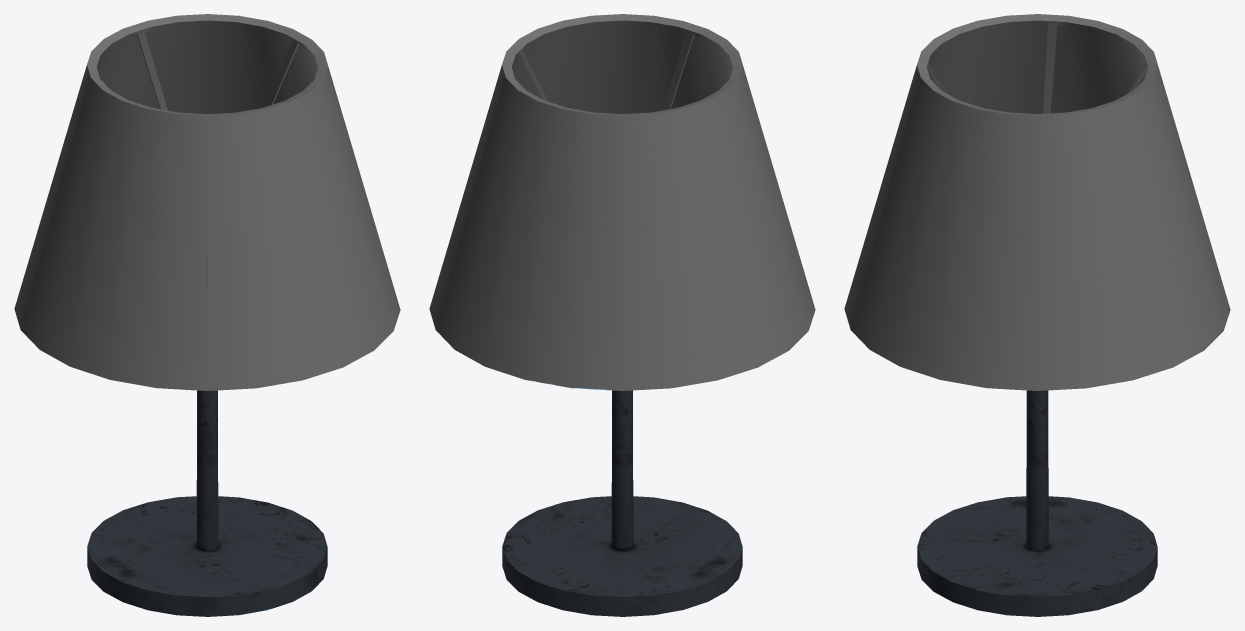
Rendered from SM_Lampara.fbx.
3 renders of one model, left to right at view 1: azimuth 30°, elevation 25°; view 2: azimuth 150°, elevation 25°; view 3: azimuth 270°, elevation 25°, orthographic.
Parts seen in each view (by area): view 1: Cylinder.003; view 2: Cylinder.003; view 3: Cylinder.003.
Part boxes in pixels (x1=…): Cylinder.003: x1=14, y1=14, x2=400, y2=616; Cylinder.003: x1=429, y1=14, x2=815, y2=616; Cylinder.003: x1=844, y1=14, x2=1230, y2=616.
Bounding box in the file's own units: 19.42 × 27.82 × 19.42.
